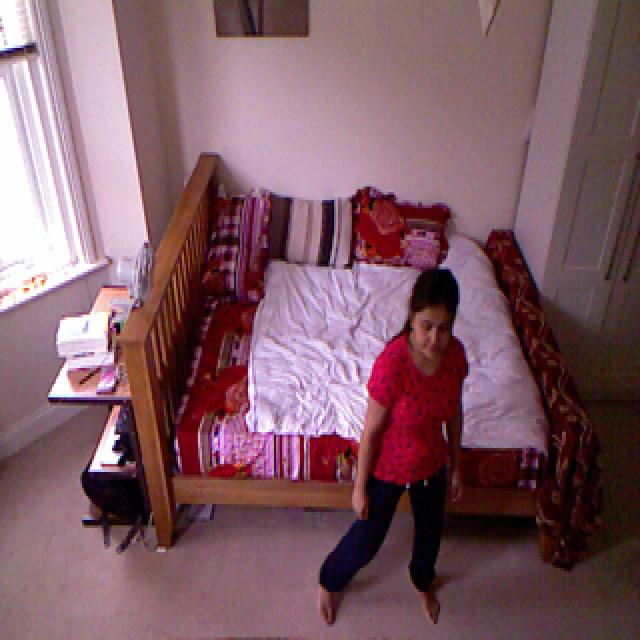standing: (336, 260, 471, 632)
